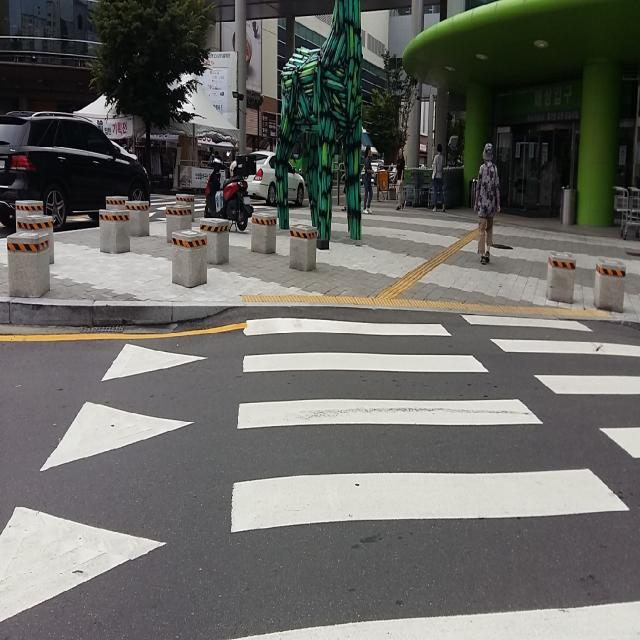횡단보도: (231, 314, 640, 640)
